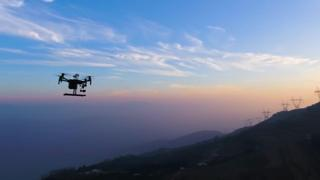UAV: (54, 73, 96, 97)
